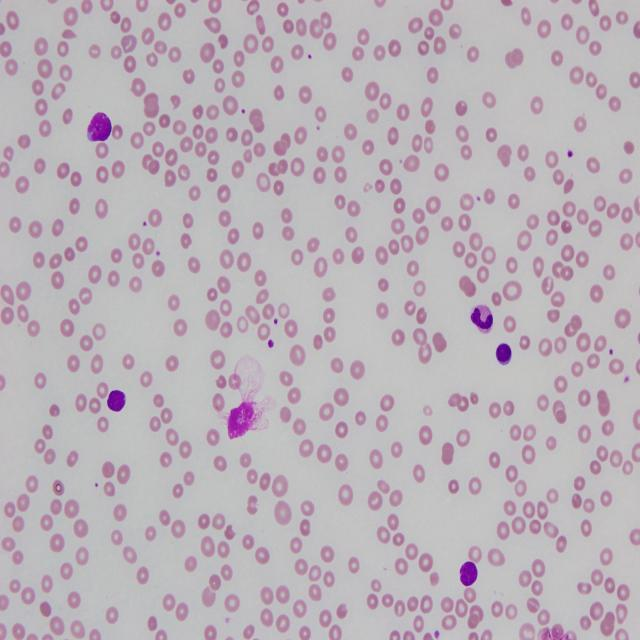cell: (88, 112, 111, 142), (460, 562, 478, 587), (108, 390, 125, 412), (496, 343, 511, 365)
